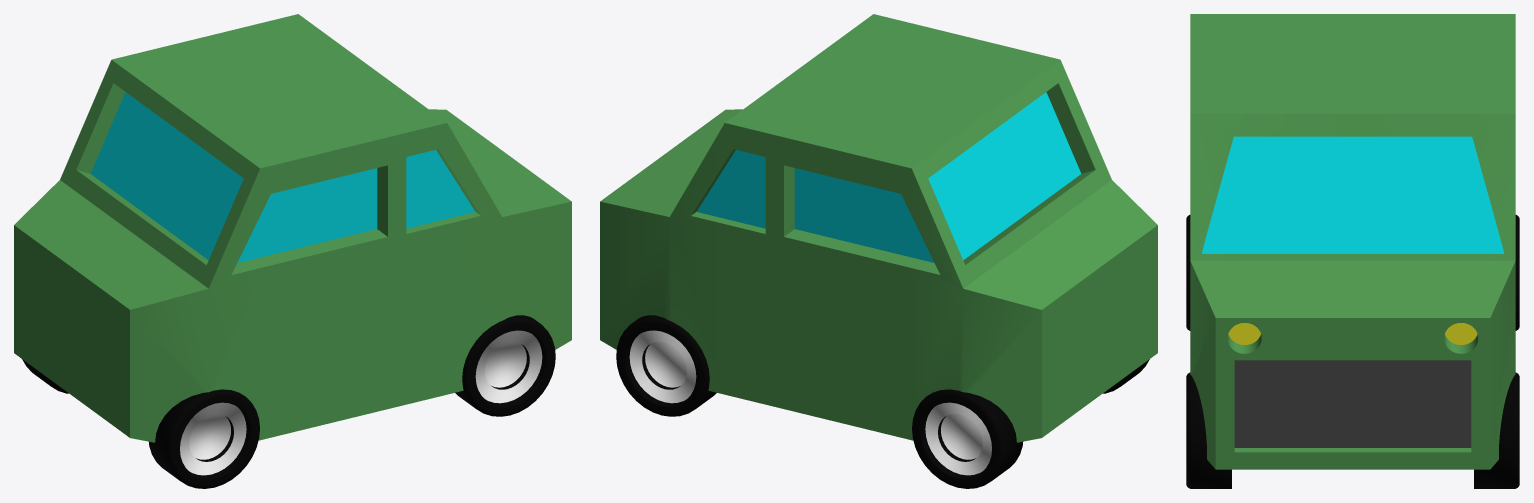
Rendered from GreenCar.fbx.
3 renders of one model, left to right at view 1: azimuth 30°, elevation 25°; view 2: azimuth 150°, elevation 25°; view 3: azimuth 270°, elevation 25°, orthographic. The views are drawn at different scales.
Visible parts, largest first — view 1: CarGreen; view 2: CarGreen; view 3: CarGreen.
Part boxes in pixels (box(x1,y1,x2,y2)): CarGreen: box(14, 14, 571, 488); CarGreen: box(600, 14, 1157, 488); CarGreen: box(1186, 14, 1519, 488).
Size of the model in its own units: 5.57 by 3.75 by 3.37.
